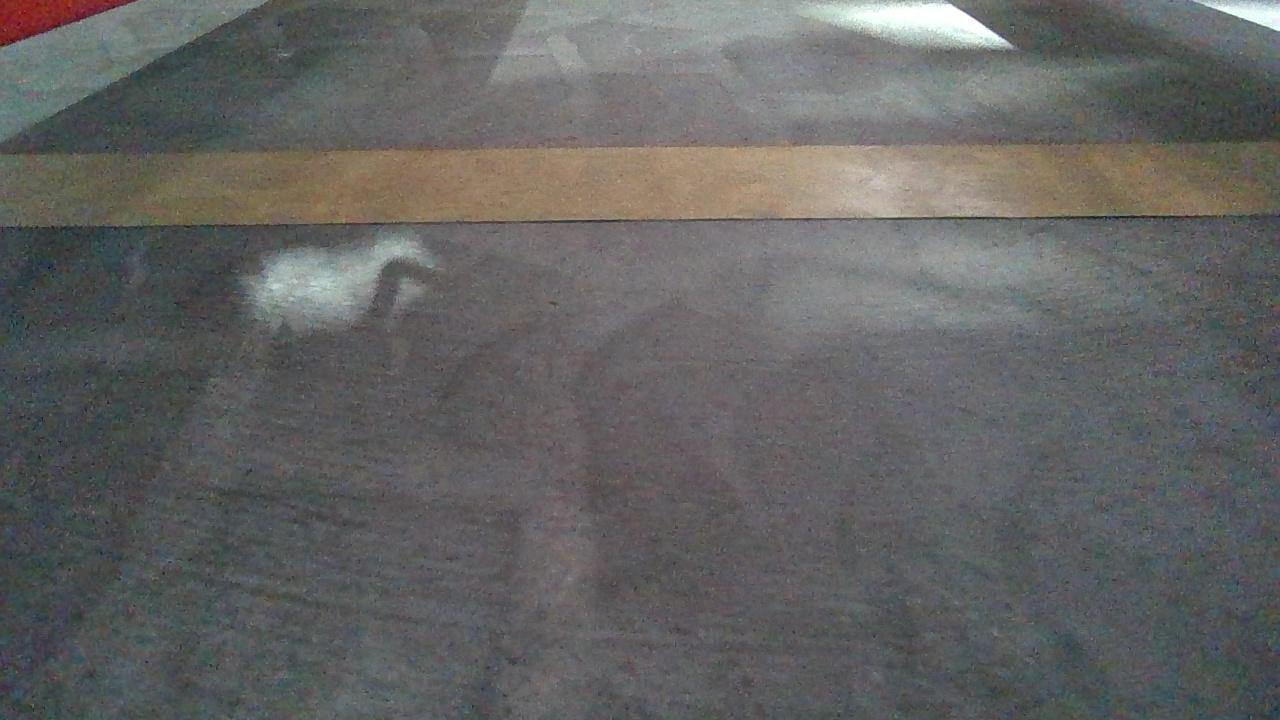yellow_line: (1, 138, 1277, 226)
